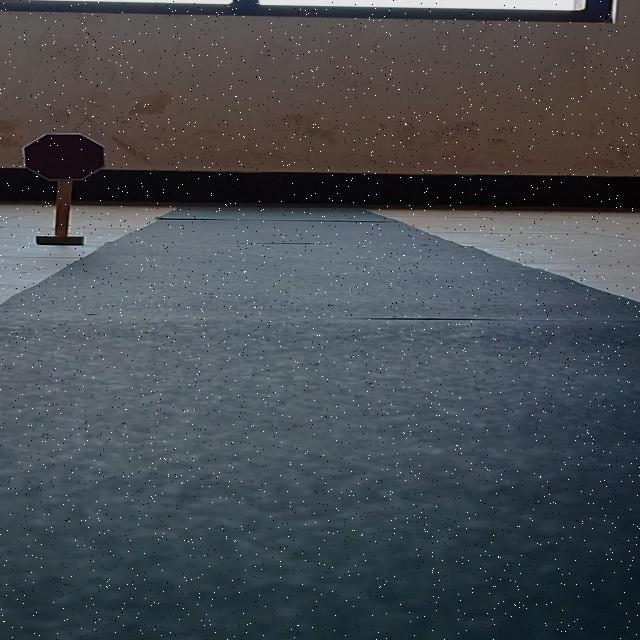Stop: (22, 133, 106, 181)
